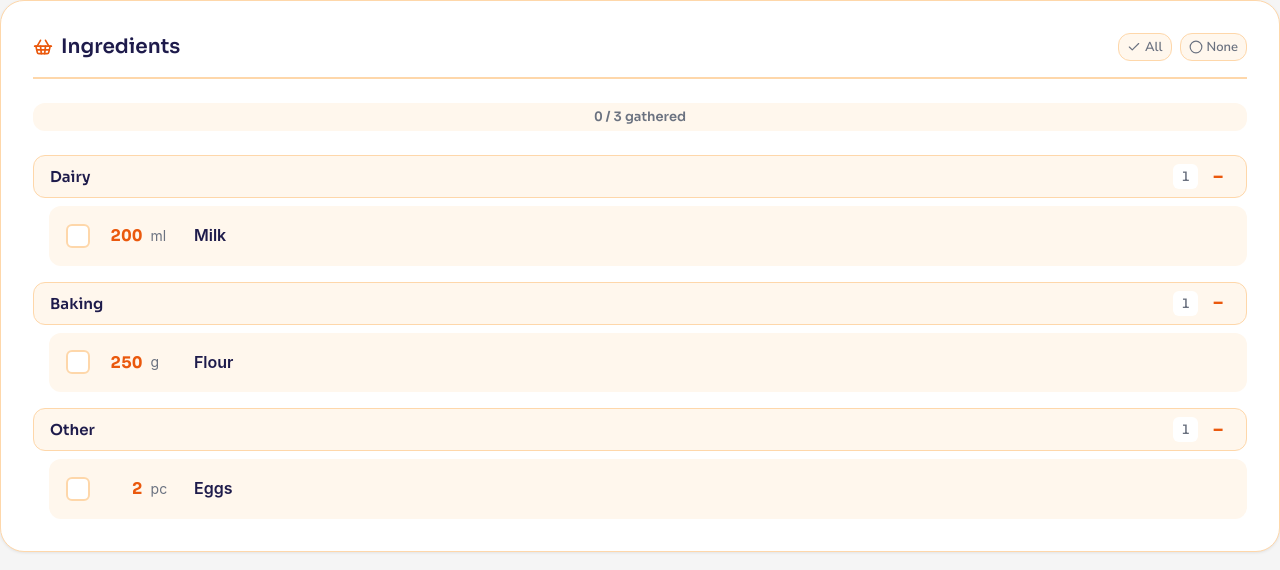
Test: IngredientList › checks all ingredients when Check All is clicked
The width and height of the screenshot is (1280, 570).
Click the button with aria-label "mark all ingredients as gathered": (1145, 47) [1118,33,1172,61]
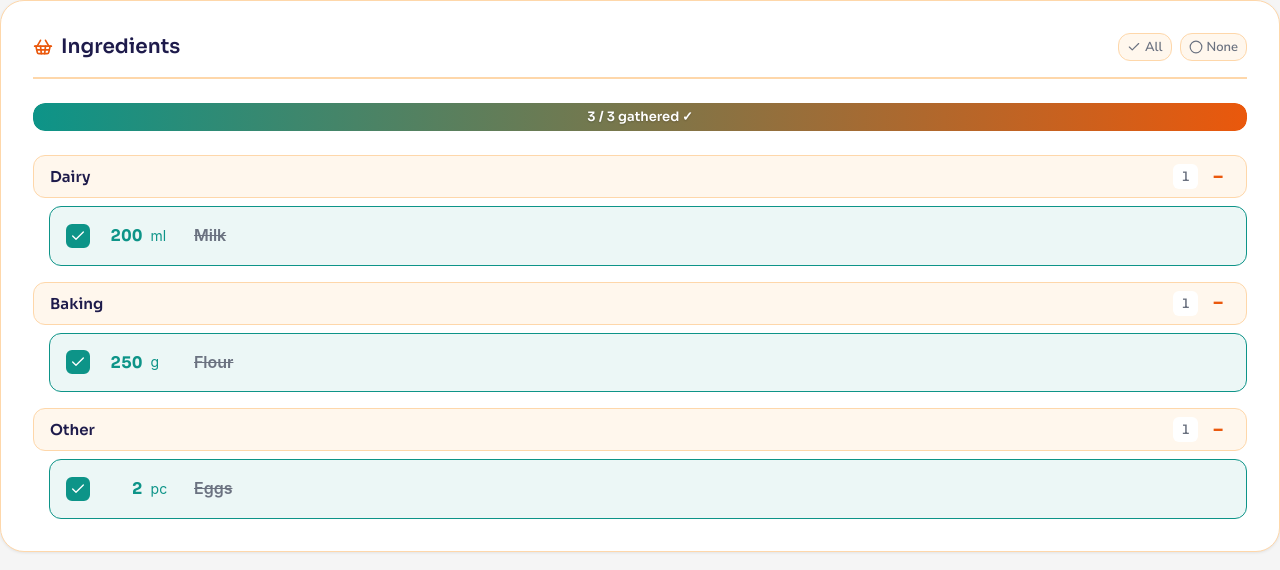
Expected: the checkbox labelled "200 ml Milk" is checked, [66,224,226,248]
Expected: the checkbox labelled "250 g Flour" is checked, [66,350,233,374]
Expected: the checkbox labelled "2 pc Eggs" is checked, [66,477,232,501]
